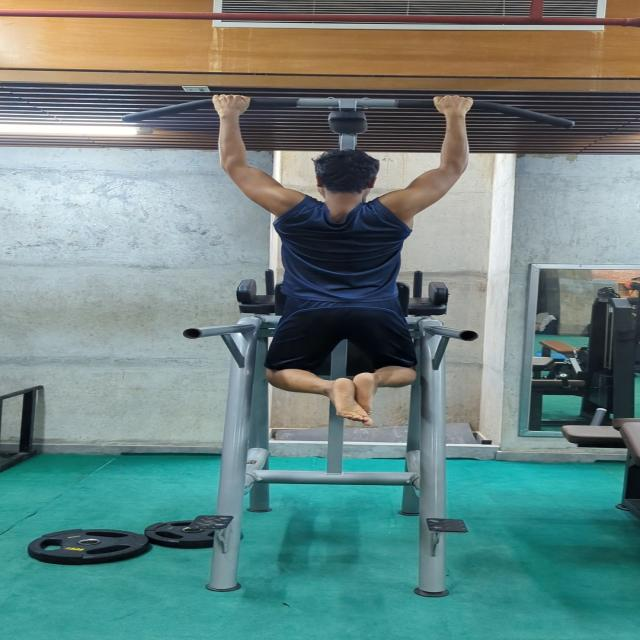Normal_PullUps: (201, 85, 493, 433)
